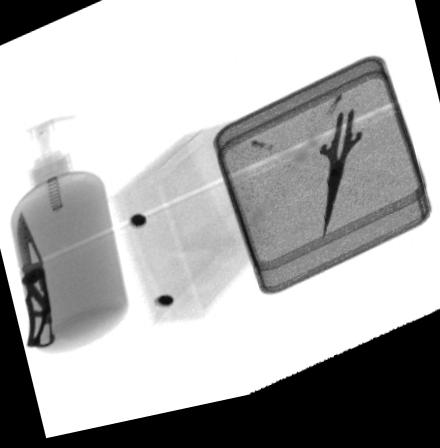Knife: (16, 212, 56, 350)
Scissors: (304, 95, 385, 254)
